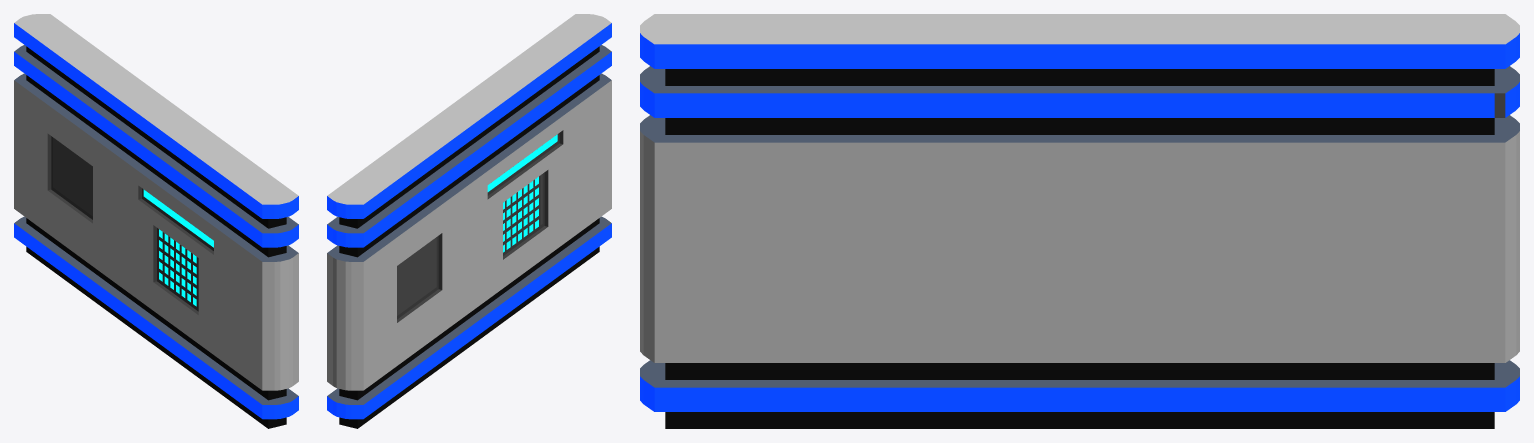
Rendered from Divider1.fbx.
3 views of the same model, side by side, from view 1: azimuth 30°, elevation 25°; view 2: azimuth 150°, elevation 25°; view 3: azimuth 270°, elevation 25° (orthographic). The views are drawn at different scales.
Parts seen in each view (by area): view 1: Divider1; view 2: Divider1; view 3: Divider1.
Boxes of the visible parts, x1=… form: Divider1: x1=14, y1=14, x2=298, y2=428; Divider1: x1=327, y1=14, x2=611, y2=428; Divider1: x1=640, y1=14, x2=1519, y2=428.
Bounding box in the file's own units: 50 × 300 × 610.
